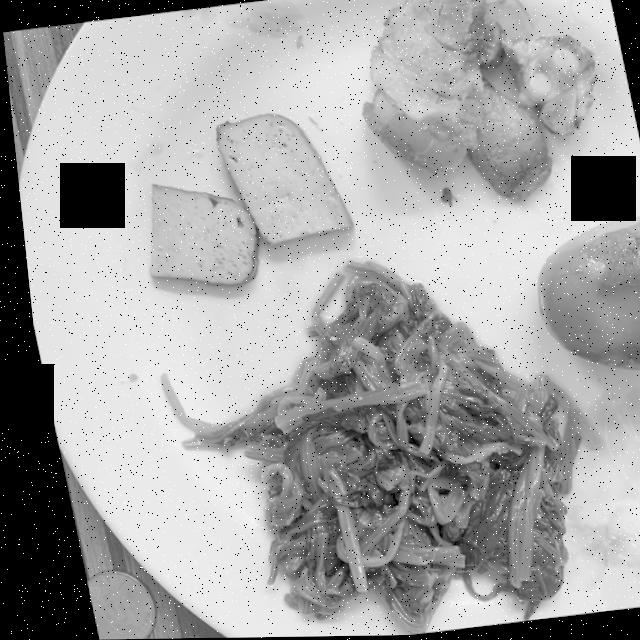coin: (73, 570, 141, 640)
firm tofu: (143, 114, 346, 286)
grilled pork: (359, 0, 594, 203)
mustard greens: (152, 261, 591, 635)
soy egg: (530, 218, 640, 372)
